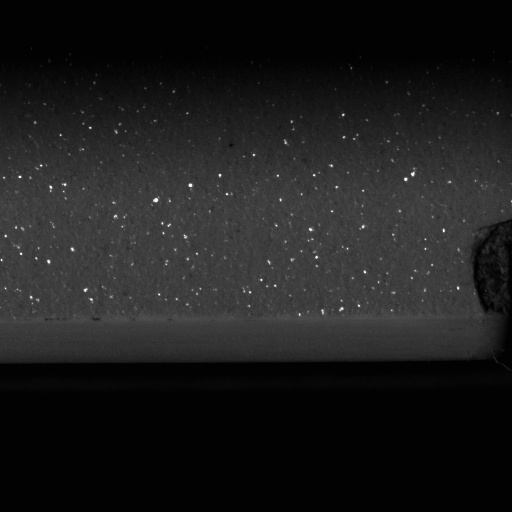bengque: (467, 218, 511, 322)
